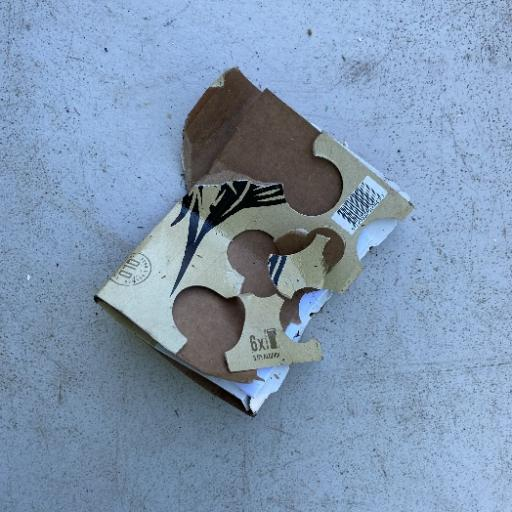Cardboard: (92, 66, 416, 418)
